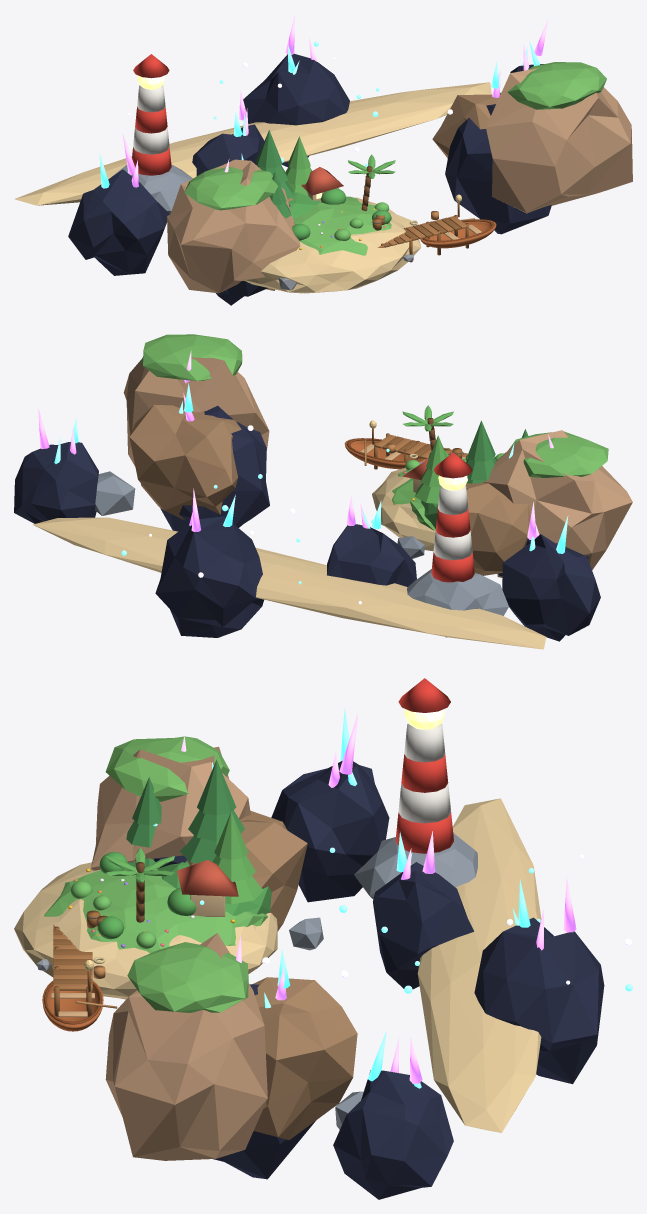
The model's file is env.glb.
The picture shows the model from 3 angles, top to bottom: view 1: azimuth 30°, elevation 25°; view 2: azimuth 150°, elevation 25°; view 3: azimuth 270°, elevation 25°; orthographic projection. The views are drawn at different scales.
Visible parts, largest first — view 1: Icosphere.015, Icosphere.013, Icosphere.019, Icosphere.029, Icosphere, Icosphere.028, Icosphere.026, Icosphere.018, Icosphere.001, Icosphere.017, Icosphere.027, Icosphere.016 (+12 smaller); view 2: Icosphere.019, Icosphere.028, Icosphere.016, Icosphere.013, Icosphere.029, Icosphere.015, Icosphere.030, Icosphere.014, Icosphere.027, Icosphere.026, Icosphere.018, Icosphere.020 (+12 smaller); view 3: Icosphere.015, Icosphere.019, Icosphere.028, Icosphere.016, Icosphere.030, Icosphere.029, Icosphere, Icosphere.027, Icosphere.013, Icosphere.001, Icosphere.018, Icosphere.014 (+18 smaller).
Boxes of the visible parts, left/top/right/bottom form: Icosphere.015: left=486, top=68, right=632, bottom=213; Icosphere.013: left=167, top=159, right=300, bottom=293; Icosphere.019: left=14, top=82, right=491, bottom=205; Icosphere.029: left=68, top=169, right=169, bottom=275; Icosphere: left=244, top=197, right=421, bottom=293; Icosphere.028: left=243, top=53, right=349, bottom=167; Icosphere.026: left=445, top=104, right=551, bottom=234; Icosphere.018: left=508, top=62, right=606, bottom=109; Icosphere.001: left=293, top=196, right=392, bottom=255; Icosphere.017: left=184, top=166, right=277, bottom=210; Icosphere.027: left=192, top=124, right=264, bottom=175; Icosphere.016: left=432, top=92, right=500, bottom=158; Icosphere.019: left=32, top=517, right=546, bottom=649; Icosphere.028: left=155, top=516, right=263, bottom=637; Icosphere.016: left=129, top=404, right=241, bottom=519; Icosphere.013: left=483, top=430, right=632, bottom=577; Icosphere.029: left=502, top=534, right=600, bottom=641; Icosphere.015: left=123, top=357, right=269, bottom=466; Icosphere.030: left=14, top=442, right=98, bottom=523; Icosphere.014: left=436, top=482, right=530, bottom=575; Icosphere.027: left=327, top=524, right=416, bottom=586; Icosphere.026: left=160, top=405, right=269, bottom=531; Icosphere.018: left=141, top=334, right=242, bottom=380; Icosphere.020: left=407, top=569, right=508, bottom=637; Icosphere.015: left=105, top=933, right=267, bottom=1160; Icosphere.019: left=417, top=798, right=541, bottom=1132; Icosphere.028: left=474, top=917, right=604, bottom=1084; Icosphere.016: left=252, top=977, right=357, bottom=1139; Icosphere.030: left=333, top=1070, right=453, bottom=1199; Icosphere.029: left=271, top=761, right=389, bottom=902; Icosphere: left=14, top=862, right=277, bottom=999; Icosphere.027: left=373, top=862, right=473, bottom=989; Icosphere.013: left=90, top=746, right=250, bottom=870; Icosphere.001: left=44, top=869, right=267, bottom=953; Icosphere.018: left=127, top=942, right=248, bottom=1012; Icosphere.014: left=187, top=810, right=307, bottom=931.
Bounding box in the file's own units: 30.08 × 11.2 × 21.11.
